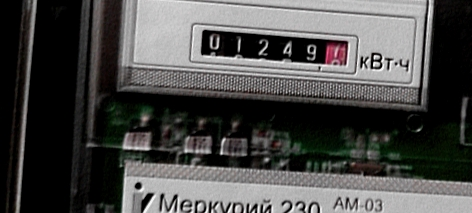0: (208, 31, 223, 52)
1: (232, 34, 245, 54)
2: (256, 37, 271, 58)
4: (281, 39, 294, 59)
7: (329, 40, 344, 60)
9: (304, 41, 319, 64)
screen: (180, 15, 359, 81)
